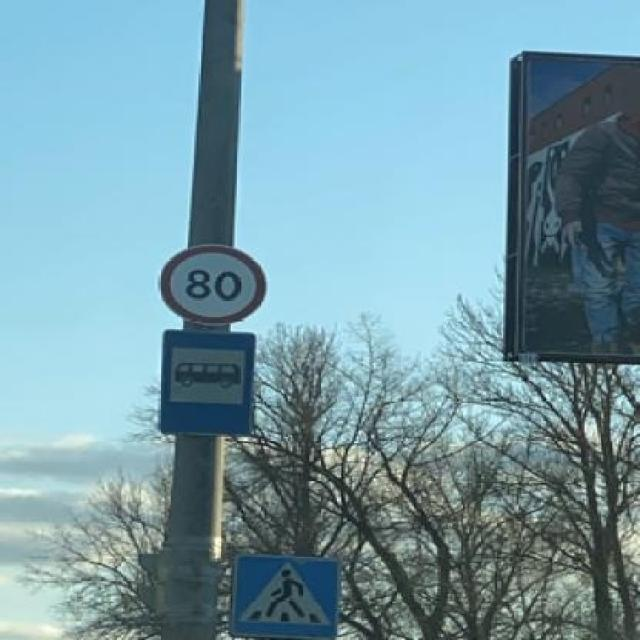forb_speed_over_80: (161, 244, 268, 324)
